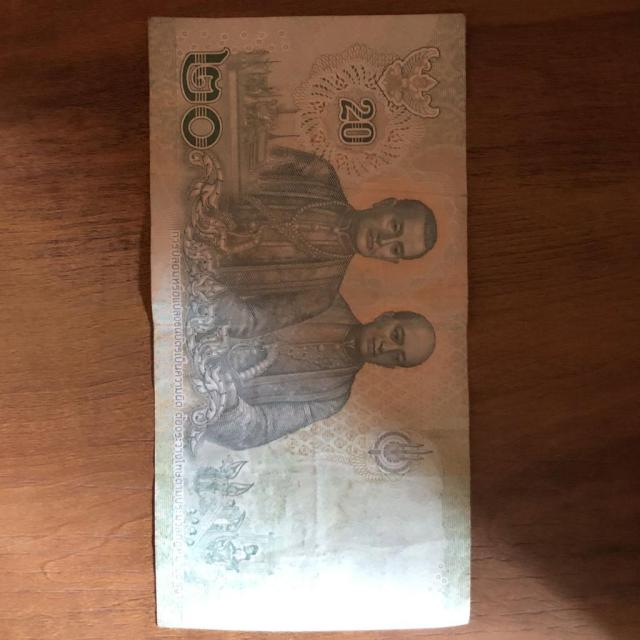THAI20: (149, 14, 470, 631)
